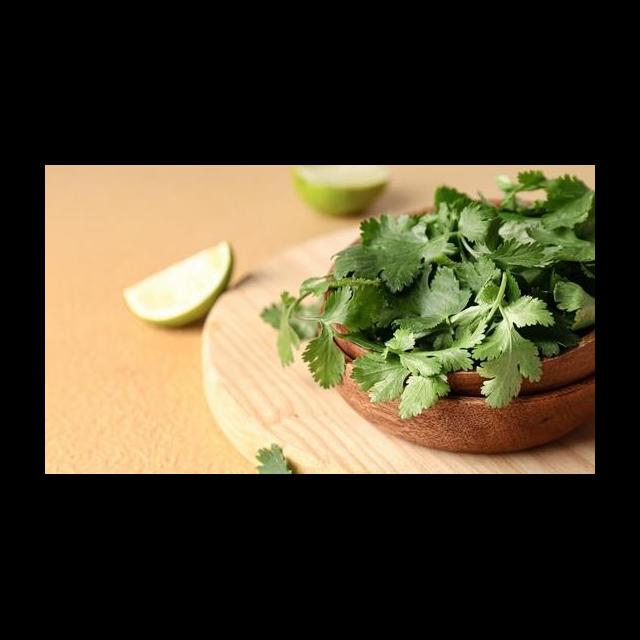cilantro: (260, 168, 594, 422)
